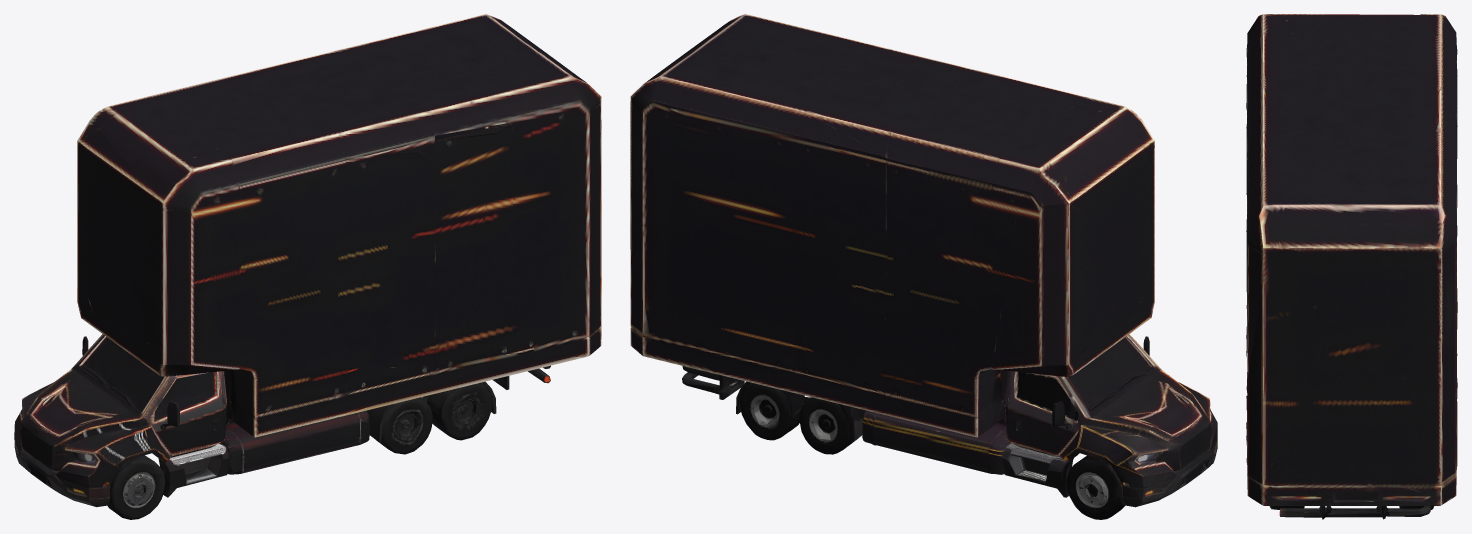
File: boxtruck.glb
3 renders of one model, left to right at view 1: azimuth 30°, elevation 25°; view 2: azimuth 150°, elevation 25°; view 3: azimuth 270°, elevation 25°, orthographic. The views are drawn at different scales.
Size of the model in its own units: 1.9 by 1.19 by 0.6402.
Materials: 1 (1 with a texture image).
